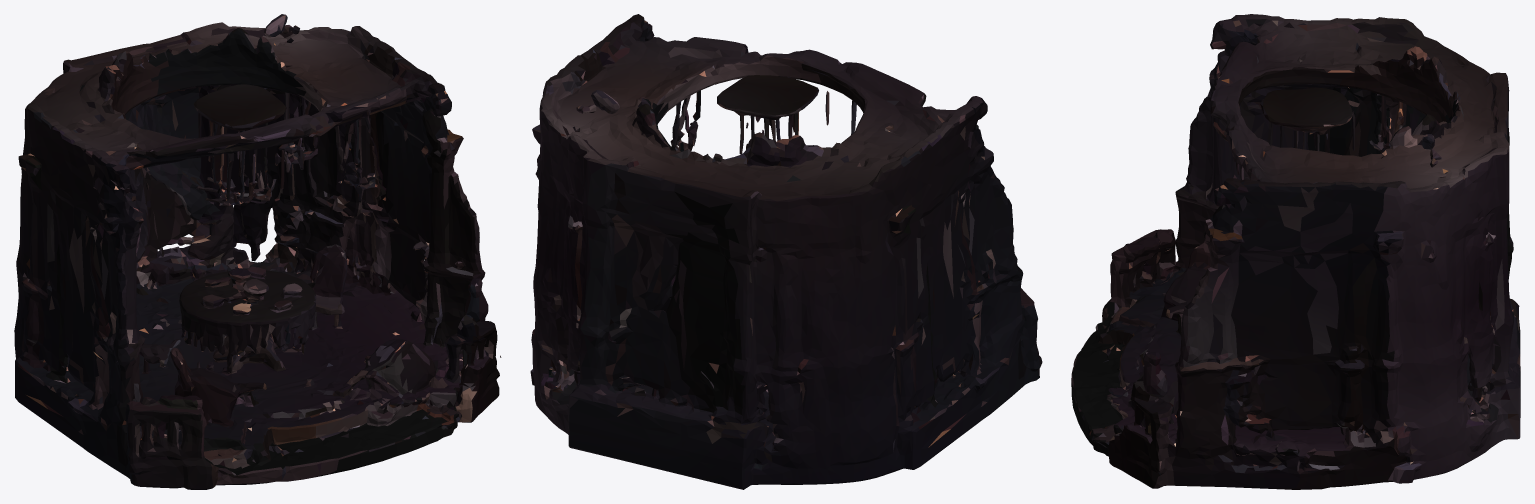
Rendered from mesa-cha-06.glb.
3 renders of one model, left to right at view 1: azimuth 30°, elevation 25°; view 2: azimuth 150°, elevation 25°; view 3: azimuth 270°, elevation 25°, orthographic. The views are drawn at different scales.
Visible parts, largest first — view 1: SM_Mesa_Cha_06; view 2: SM_Mesa_Cha_06; view 3: SM_Mesa_Cha_06.
Boxes of the visible parts, x1,y1,x2,y2 form: SM_Mesa_Cha_06: (14,14,501,489); SM_Mesa_Cha_06: (530,14,1042,489); SM_Mesa_Cha_06: (1071,14,1520,489).
Bounding box in the file's own units: 5.17 × 4 × 5.19.
Materials: 1 (1 with a texture image).
